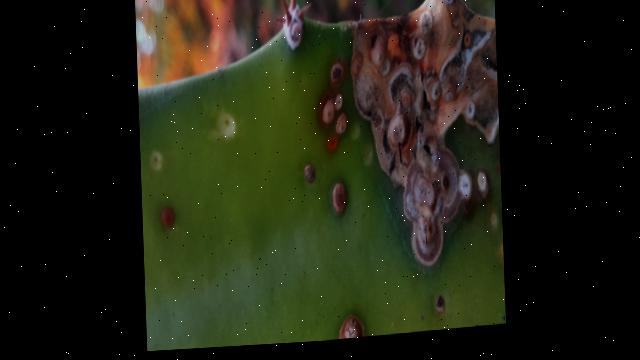stemcanker: (146, 61, 360, 342)
